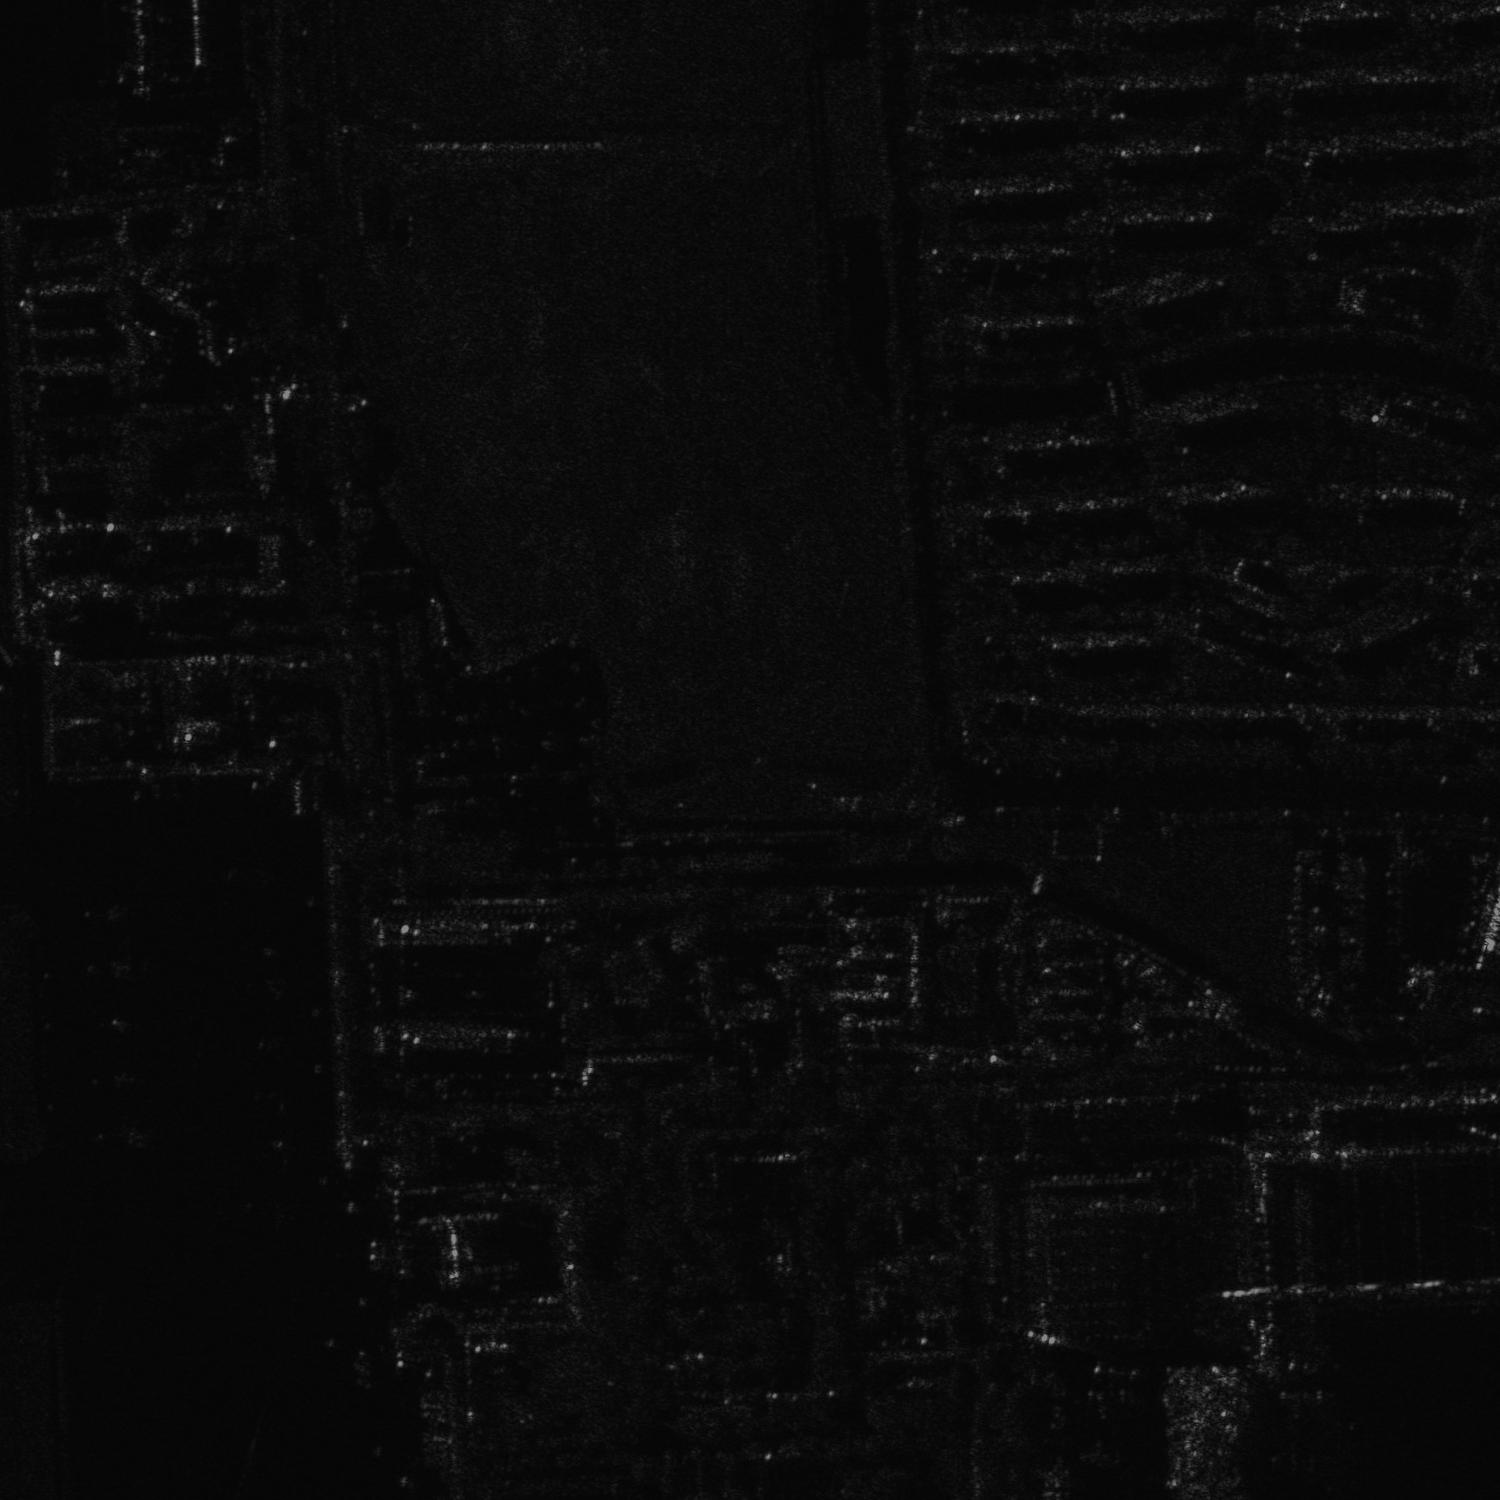ARJ21: (82, 949, 140, 986), (98, 1004, 148, 1041)
Boeing737: (1262, 1387, 1359, 1477), (1074, 1383, 1147, 1468)
other: (91, 1114, 154, 1152), (85, 1059, 146, 1099), (82, 891, 136, 930)
